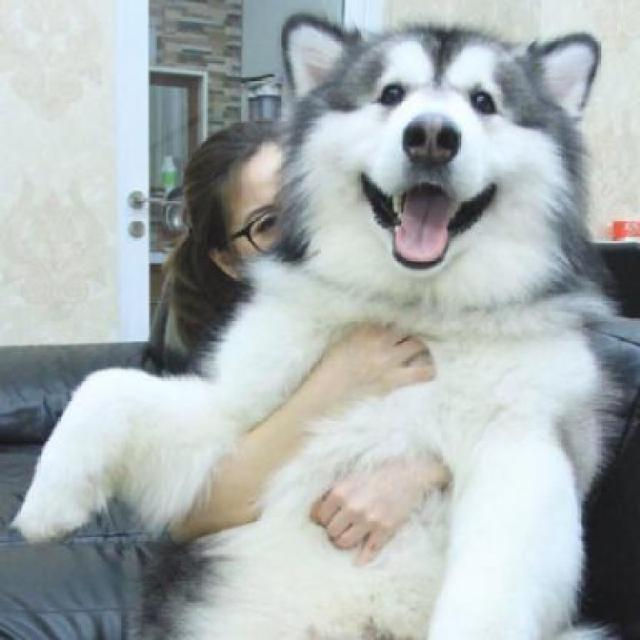animals: (277, 12, 640, 586)
